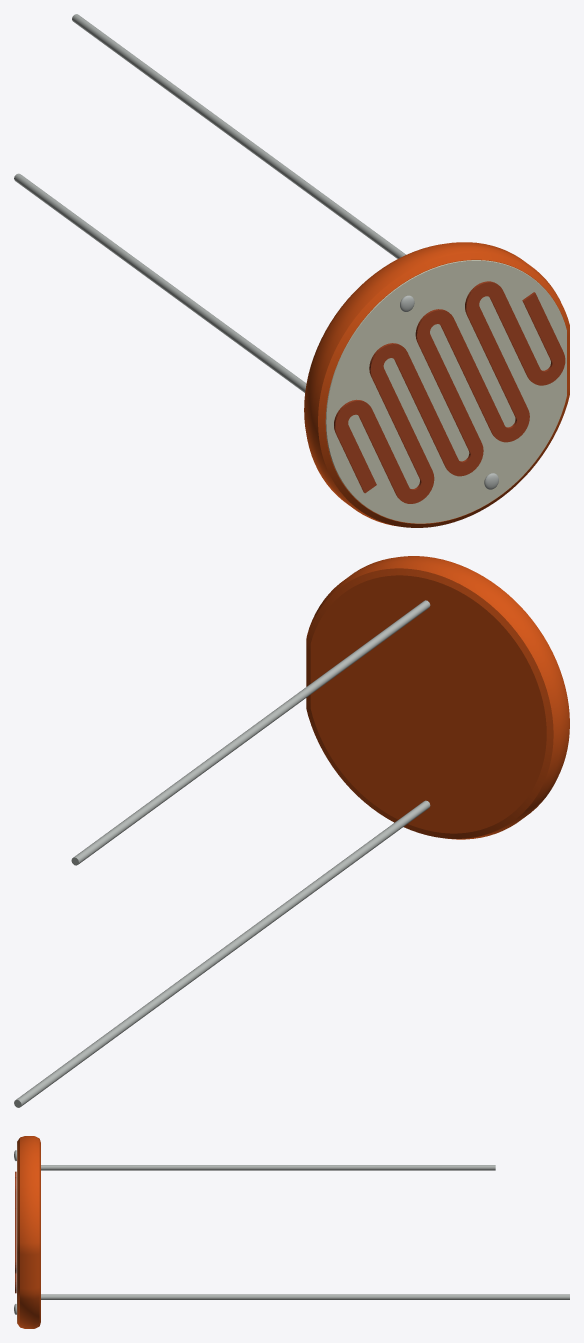
The model's file is FOTORESISTENCIA.glb.
3 renders of one model, top to bottom at view 1: azimuth 30°, elevation 25°; view 2: azimuth 150°, elevation 25°; view 3: azimuth 270°, elevation 25°, orthographic. The views are drawn at different scales.
Visible parts, largest first — view 1: Ceramic sensing face_export, Continuous serpentine sensing ribbon_export, Solid coated sensor body_export, Wire lead 1_export, Wire lead -1_export; view 2: Solid coated sensor body_export, Wire lead -1_export, Wire lead 1_export; view 3: Solid coated sensor body_export, Wire lead -1_export, Wire lead 1_export.
Part boxes in pixels (x1,y1,x2,y2): Ceramic sensing face_export: [325, 260, 566, 523]; Continuous serpentine sensing ribbon_export: [334, 281, 565, 503]; Solid coated sensor body_export: [304, 242, 569, 527]; Wire lead 1_export: [72, 14, 405, 258]; Wire lead -1_export: [14, 173, 306, 392]; Solid coated sensor body_export: [306, 556, 569, 839]; Wire lead -1_export: [14, 800, 430, 1107]; Wire lead 1_export: [71, 600, 430, 865]; Solid coated sensor body_export: [17, 1136, 40, 1328]; Wire lead -1_export: [41, 1294, 569, 1299]; Wire lead 1_export: [41, 1165, 495, 1170].
Bounding box in the file's own units: 0.00531 × 0.0054 × 0.0156.
